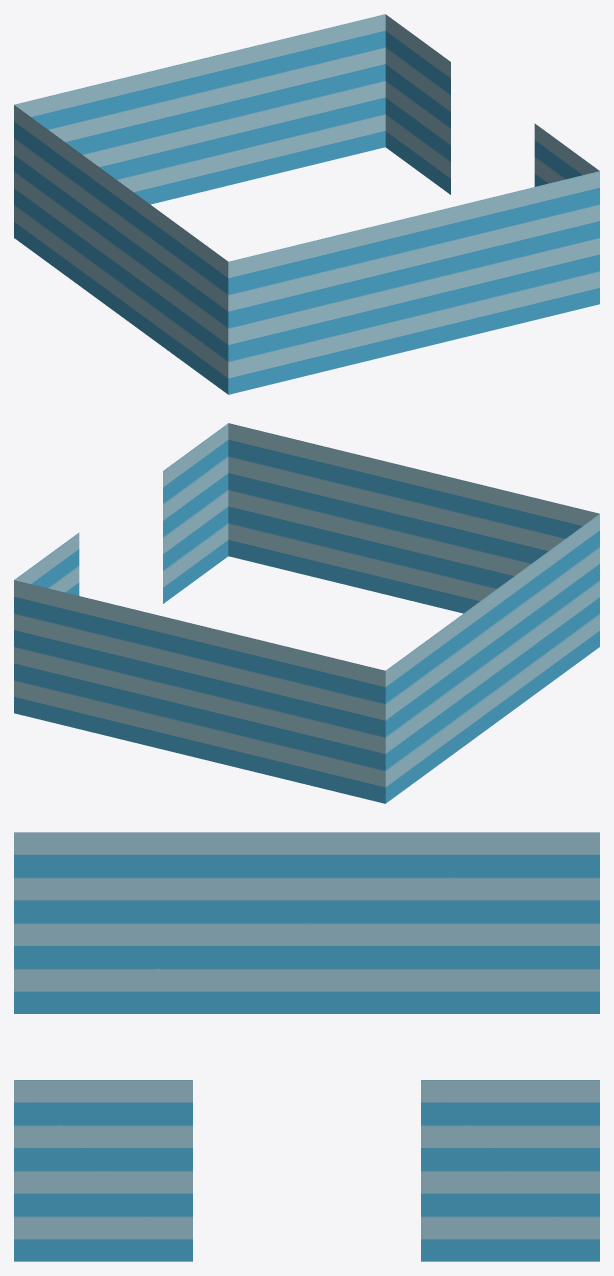
File: Room Outer Wall.fbx
3 renders of one model, top to bottom at view 1: azimuth 30°, elevation 25°; view 2: azimuth 150°, elevation 25°; view 3: azimuth 270°, elevation 25°, orthographic. The views are drawn at different scales.
Visible parts, largest first — view 1: Room Outer Wall; view 2: Room Outer Wall; view 3: Room Outer Wall.
Part boxes in pixels (x1,y1,x2,y2): Room Outer Wall: (14, 14, 599, 394); Room Outer Wall: (14, 423, 599, 803); Room Outer Wall: (14, 832, 599, 1261).
Bounding box in the file's own units: 52.71 × 18.06 × 52.71.
